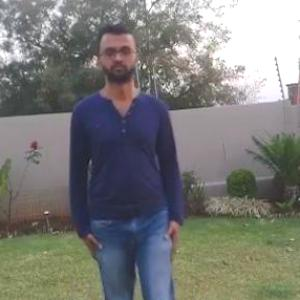follow: (69, 25, 187, 299)
